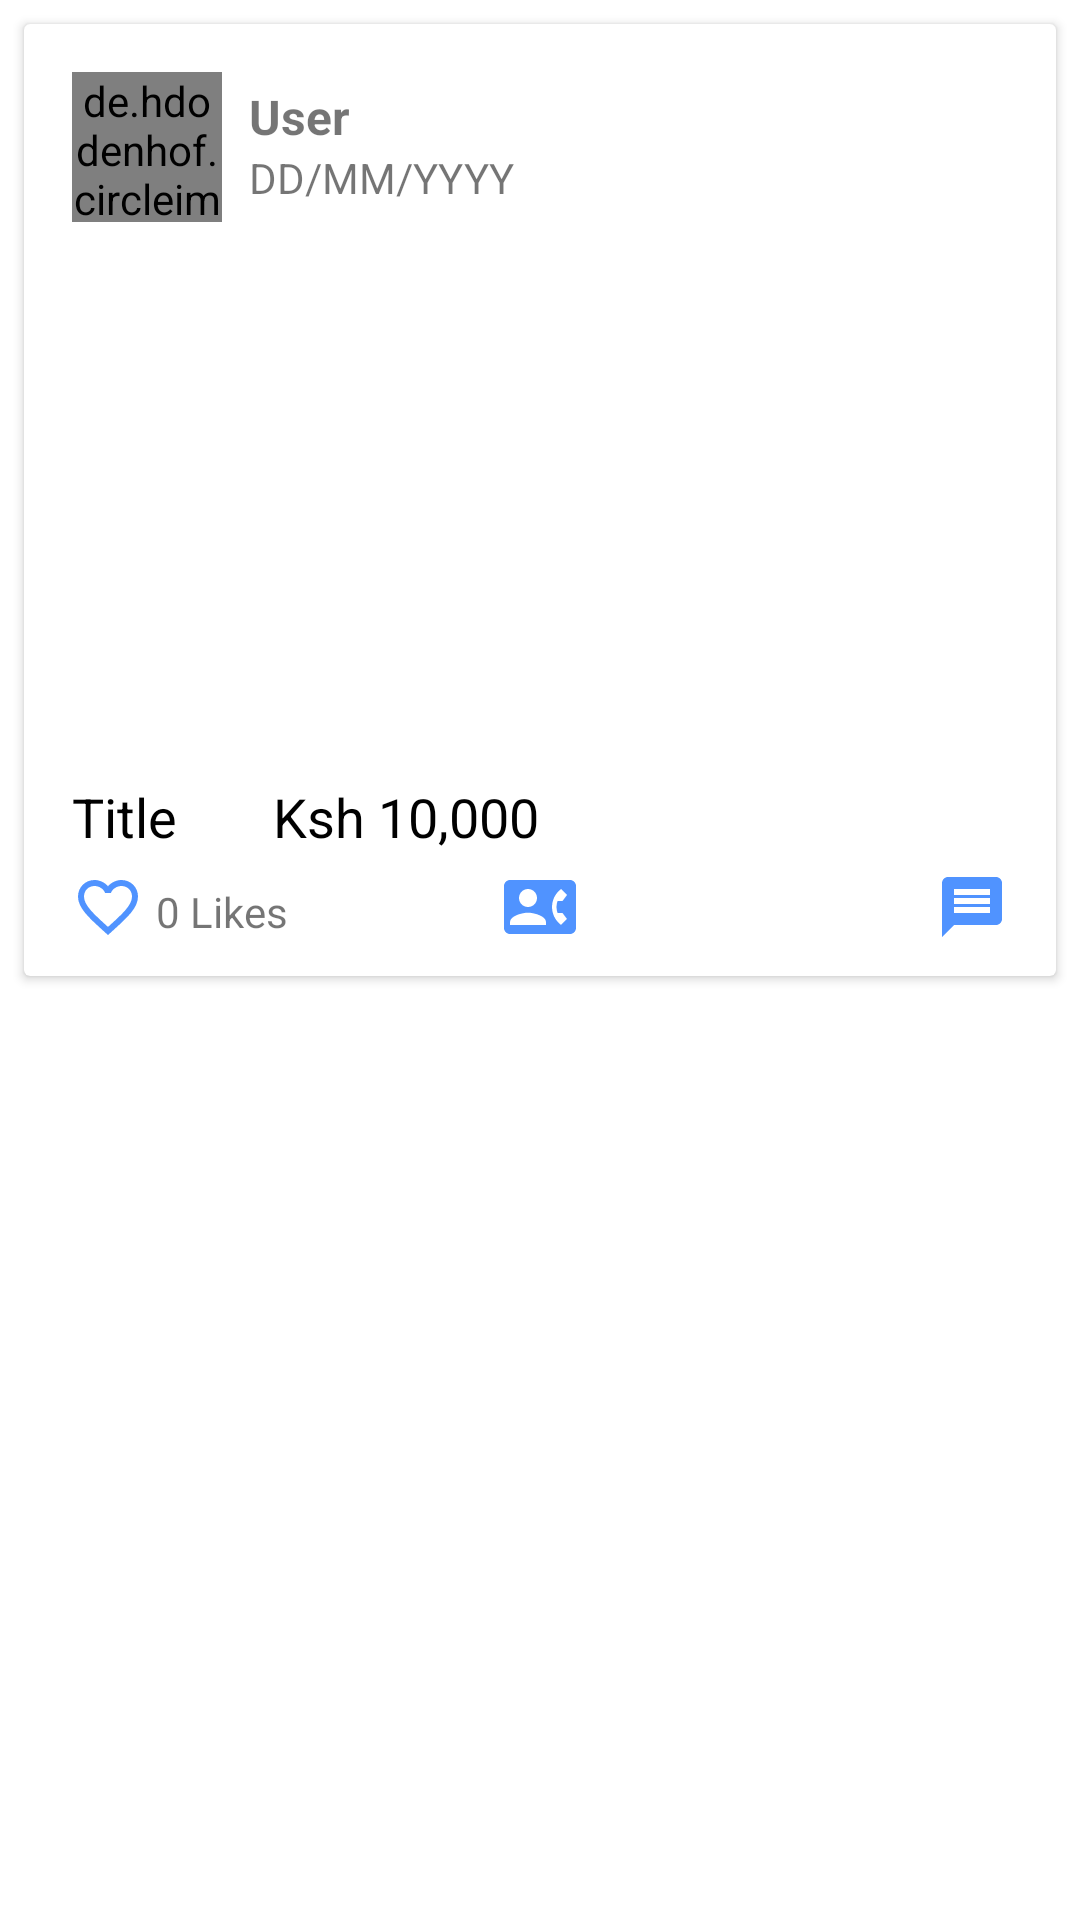

Screen size 1080x1920. Icon name, then its center in pixels as (x=x, y=y):
comment: (x=972, y=907)
contact phone: (x=540, y=907)
favorite border: (x=108, y=907)
